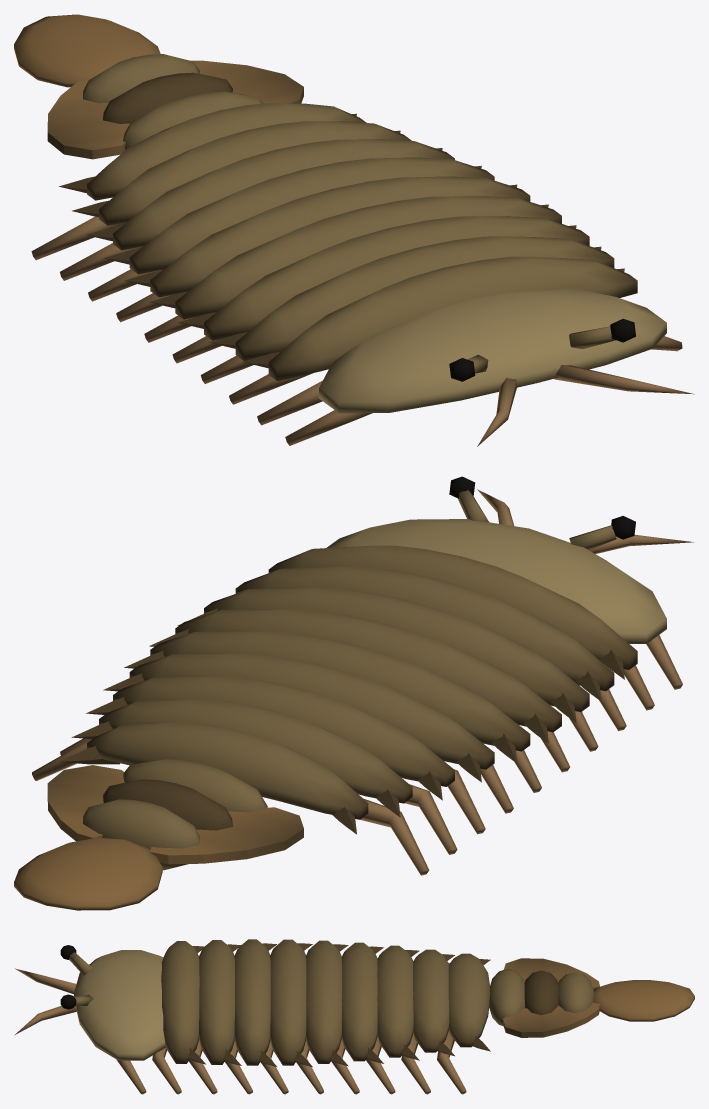
File: Sidneyia.fbx
The picture shows the model from 3 angles, top to bottom: view 1: azimuth 30°, elevation 25°; view 2: azimuth 150°, elevation 25°; view 3: azimuth 270°, elevation 25°; orthographic projection. The views are drawn at different scales.
Parts seen in each view (by area): view 1: Sidneyia; view 2: Sidneyia; view 3: Sidneyia.
Part boxes in pixels (<box>): Sidneyia: <box>14,14,694,446</box>; Sidneyia: <box>14,476,693,910</box>; Sidneyia: <box>15,939,694,1094</box>.
Bounding box in the file's own units: 0.697 × 0.1771 × 1.63.
